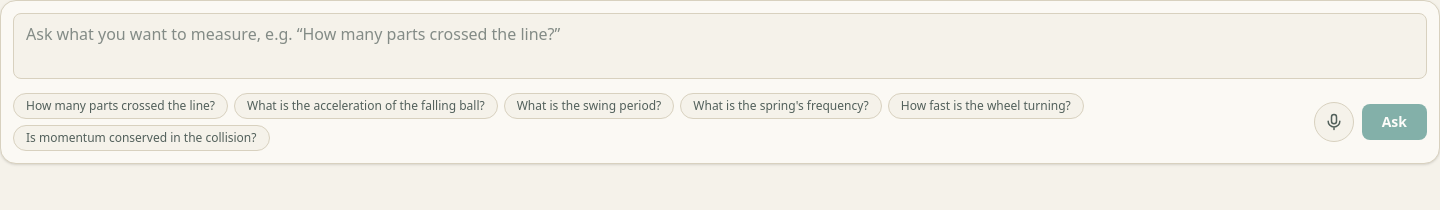
voice input › shows the server's message when nothing was heard, and the box stays as it was
The image size is (1440, 210).
Click the button named "Speak your question" at (1334, 122), box [1314, 102, 1354, 142]
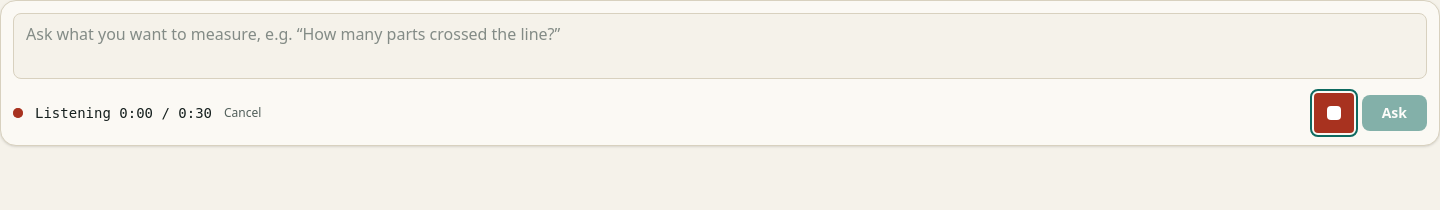
Result: the button named "Stop recording" is shown
Click the button named "Stop recording" at (1334, 113), box [1314, 93, 1354, 133]
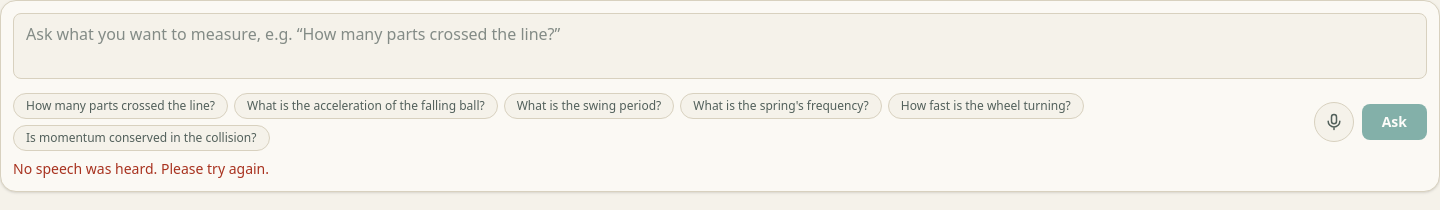
Expected: the text box is empty, [13, 13, 1427, 79]
Result: the message shows "No speech was heard" at [13, 159, 269, 178]
